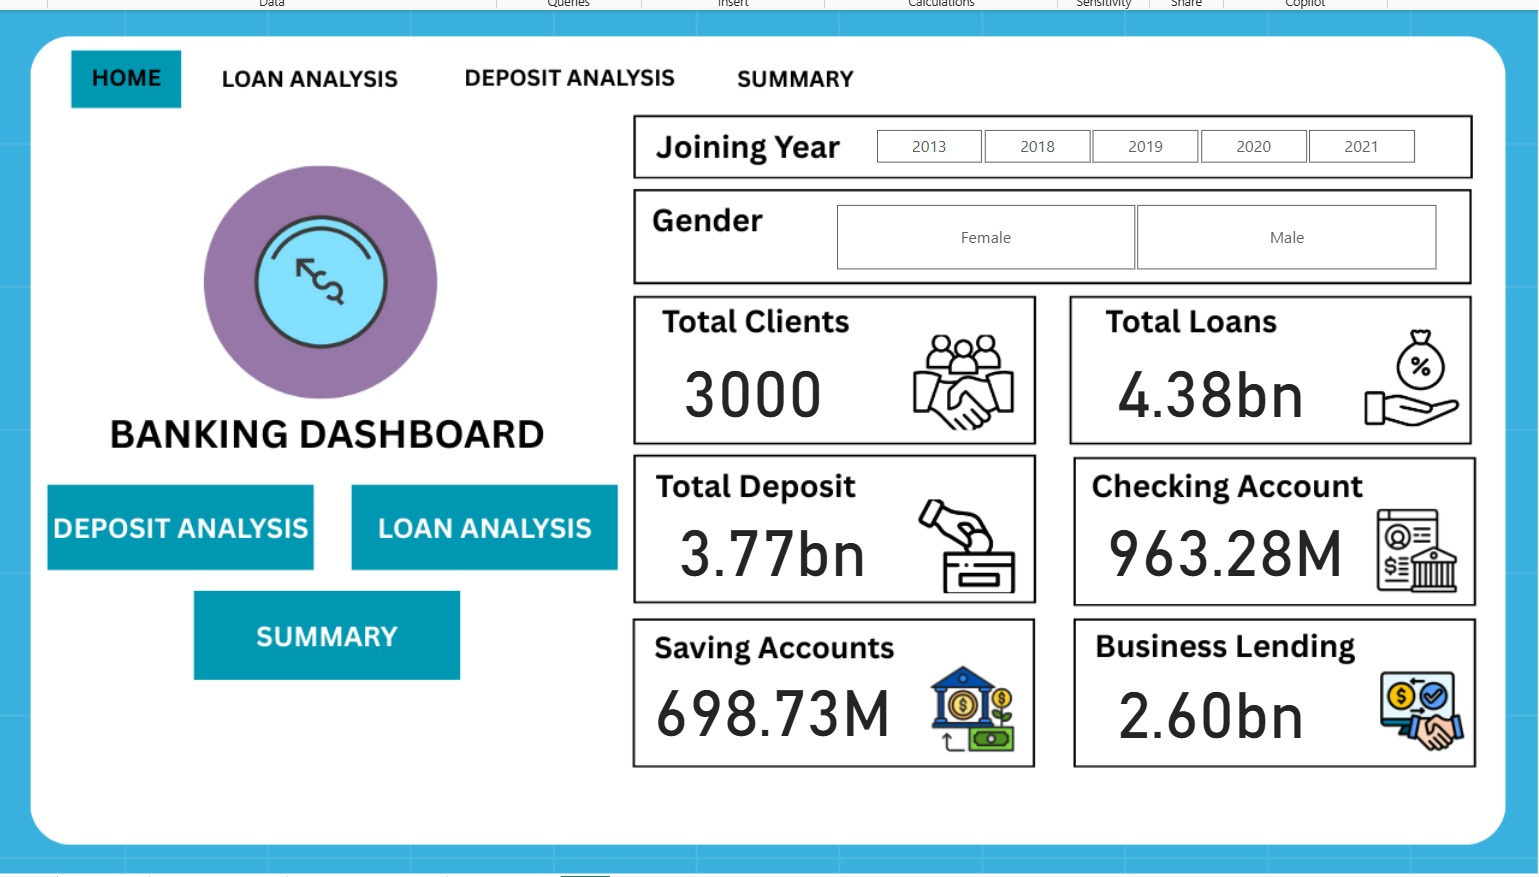

Layout of this report page (visuals, bound fields, positions):
{"tool":"powerbi","page":{"name":"Home ","canvas":[1280,720],"ordinal":0},"visuals":[{"type":"card","fields":{"Values":["CountNonNull(Banking (1).Name)"]},"box":[551.2,278.8,152.5,67.5],"z":0},{"type":"slicer","fields":{"Values":["Banking (1).GenderId"]},"box":[670,155,548.8,67.5],"z":1000},{"type":"card","fields":{"Values":["Banking (1).Total Loans"]},"box":[915,278.8,186.2,67.5],"z":2000},{"type":"card","fields":{"Values":["Banking (1).Total Deposit"]},"box":[538.8,405,210,78.8],"z":3000},{"type":"card","fields":{"Values":["Sum(Banking (1).Checking Accounts)"]},"box":[915,405,210,78.8],"z":4000},{"type":"card","fields":{"Values":["Sum(Banking (1).Saving Accounts)"]},"box":[538.8,538.8,210,78.8],"z":5000},{"type":"card","fields":{"Values":["Sum(Banking (1).Business Lending)"]},"box":[902.5,546.2,211.2,66.2],"z":6000},{"type":"slicer","fields":{"Values":["Banking (1).Year of Joining"]},"box":[703.8,92.5,497.5,41.2],"z":7000},{"type":"actionButton","box":[38.8,391.2,223.8,71.2],"z":8000},{"type":"actionButton","box":[293.8,391.2,222.5,72.5],"z":9000},{"type":"actionButton","box":[163.8,482.5,220,72.5],"z":10000},{"type":"actionButton","box":[163.8,32.5,197.5,50],"z":11000},{"type":"actionButton","box":[361.2,32.5,218.8,50],"z":12000},{"type":"actionButton","box":[586.2,32.5,162.5,50],"z":13000}]}

Visuals, with their boxes on the page's 1280x720 design canvas (x1, y1, x2, y2). These are canvas units, not pixel positions in the 1539x877 screenshot, which may show the page scaled, cropped or inside an application window:
card - CountNonNull(Banking (1).Name): 551:279:704:346
slicer - Banking (1).GenderId: 670:155:1219:222
card - Banking (1).Total Loans: 915:279:1101:346
card - Banking (1).Total Deposit: 539:405:749:484
card - Sum(Banking (1).Checking Accounts): 915:405:1125:484
card - Sum(Banking (1).Saving Accounts): 539:539:749:618
card - Sum(Banking (1).Business Lending): 902:546:1114:612
slicer - Banking (1).Year of Joining: 704:92:1201:134
actionButton: 39:391:263:462
actionButton: 294:391:516:464
actionButton: 164:482:384:555
actionButton: 164:32:361:82
actionButton: 361:32:580:82
actionButton: 586:32:749:82
